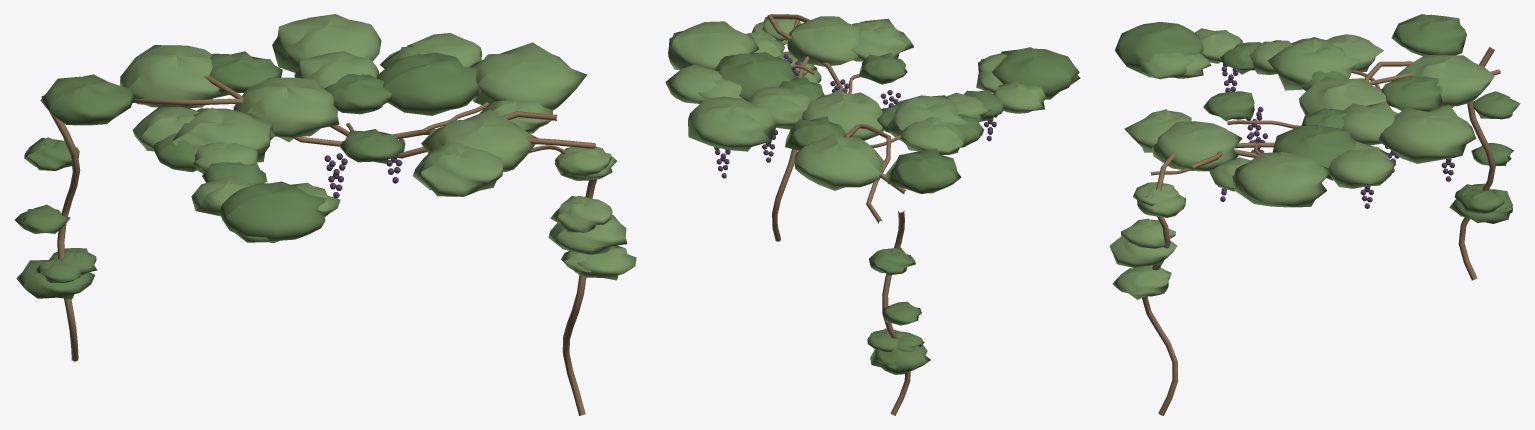
Rendered from szolo-kocka.glb.
3 views of the same model, side by side, from view 1: azimuth 30°, elevation 25°; view 2: azimuth 150°, elevation 25°; view 3: azimuth 270°, elevation 25° (orthographic). The views are drawn at different scales.
Visible parts, largest first — view 1: lomb-teto-26, lomb-teto-25, lomb-teto-22, lomb-teto-2, lomb-teto-17, lomb-teto-6, lomb-teto-12, lomb-teto-19, lomb-teto-11, lomb-teto-15, lomb-teto-1, lomb-teto-4 (+23 smaller); view 2: lomb-teto-6, lomb-teto-2, lomb-teto-26, lomb-teto-11, lomb-teto-25, lomb-teto-19, lomb-teto-17, lomb-teto-22, lomb-teto-15, lomb-teto-20, lomb-teto-12, lomb-teto-21 (+21 smaller); view 3: lomb-teto-26, lomb-teto-6, lomb-teto-11, lomb-teto-2, lomb-teto-15, lomb-teto-25, lomb-teto-19, lomb-teto-22, lomb-teto-17, lomb-teto-3, lomb-teto-1, lomb-teto-21 (+23 smaller).
Part boxes in pixels (x1,y1,x2,y2): lomb-teto-26: [468, 42, 586, 110]; lomb-teto-25: [219, 181, 326, 243]; lomb-teto-22: [376, 52, 479, 115]; lomb-teto-2: [119, 45, 229, 108]; lomb-teto-17: [233, 77, 339, 142]; lomb-teto-6: [272, 14, 381, 72]; lomb-teto-12: [413, 141, 503, 196]; lomb-teto-19: [40, 74, 135, 125]; lomb-teto-11: [421, 109, 537, 171]; lomb-teto-15: [171, 107, 270, 162]; lomb-teto-1: [209, 51, 282, 93]; lomb-teto-4: [324, 74, 391, 114]; lomb-teto-6: [688, 96, 777, 151]; lomb-teto-2: [794, 134, 884, 190]; lomb-teto-26: [667, 21, 758, 70]; lomb-teto-11: [787, 16, 860, 66]; lomb-teto-25: [992, 47, 1079, 99]; lomb-teto-19: [885, 148, 961, 193]; lomb-teto-17: [802, 90, 883, 140]; lomb-teto-22: [714, 52, 797, 100]; lomb-teto-15: [886, 95, 969, 141]; lomb-teto-20: [900, 117, 966, 154]; lomb-teto-12: [850, 18, 913, 61]; lomb-teto-21: [747, 86, 810, 129]; lomb-teto-26: [1232, 152, 1331, 207]; lomb-teto-6: [1377, 105, 1476, 163]; lomb-teto-11: [1151, 121, 1242, 171]; lomb-teto-2: [1395, 54, 1494, 107]; lomb-teto-15: [1267, 37, 1360, 90]; lomb-teto-25: [1115, 22, 1203, 77]; lomb-teto-19: [1391, 14, 1466, 55]; lomb-teto-22: [1272, 125, 1356, 180]; lomb-teto-17: [1299, 77, 1386, 115]; lomb-teto-3: [1328, 148, 1395, 188]; lomb-teto-1: [1381, 76, 1441, 111]; lomb-teto-21: [1342, 101, 1397, 145].
Bounding box in the file's own units: 4.67 × 3.06 × 4.42.
